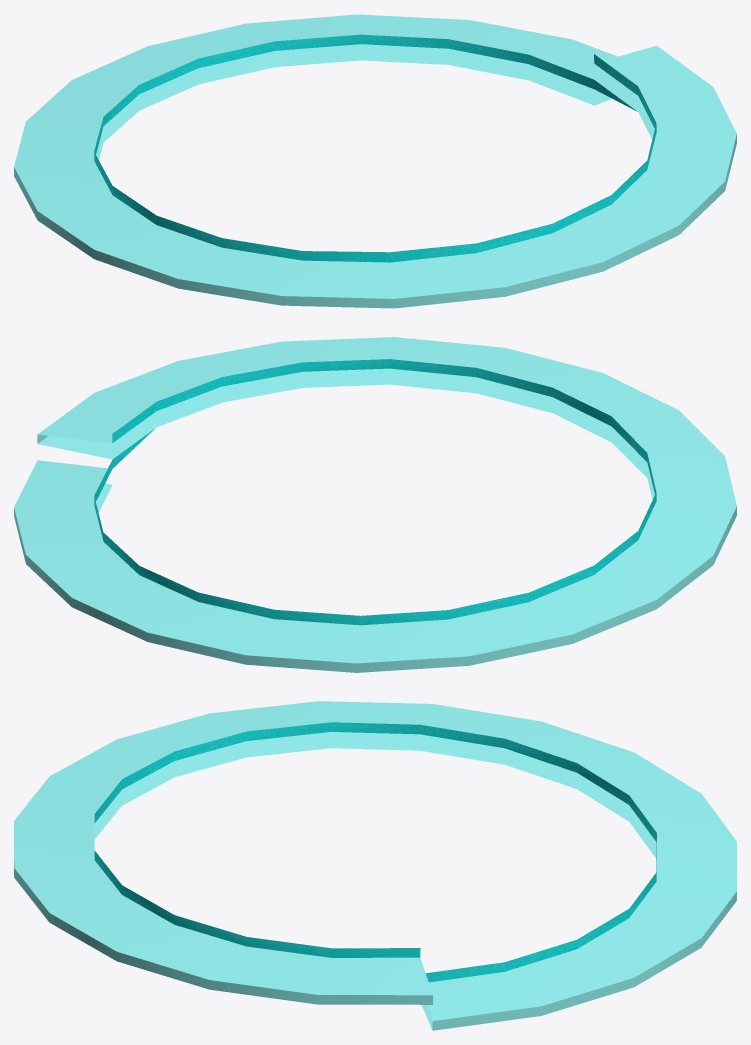
File: original-4.obj
3 views of the same model, one above another, from view 1: azimuth 30°, elevation 25°; view 2: azimuth 150°, elevation 25°; view 3: azimuth 270°, elevation 25° (orthographic).
Visible parts, largest first — view 1: _1_1_1/_1_1/mesh1/mesh1-geometry#mesh1-geometry; view 2: _1_1_1/_1_1/mesh1/mesh1-geometry#mesh1-geometry; view 3: _1_1_1/_1_1/mesh1/mesh1-geometry#mesh1-geometry.
Boxes of the visible parts, x1=… form: _1_1_1/_1_1/mesh1/mesh1-geometry#mesh1-geometry: x1=14, y1=14, x2=736, y2=308; _1_1_1/_1_1/mesh1/mesh1-geometry#mesh1-geometry: x1=14, y1=337, x2=736, y2=672; _1_1_1/_1_1/mesh1/mesh1-geometry#mesh1-geometry: x1=14, y1=701, x2=736, y2=1030.
Bounding box in the file's own units: 0.4024 × 0.0319 × 0.4024.
